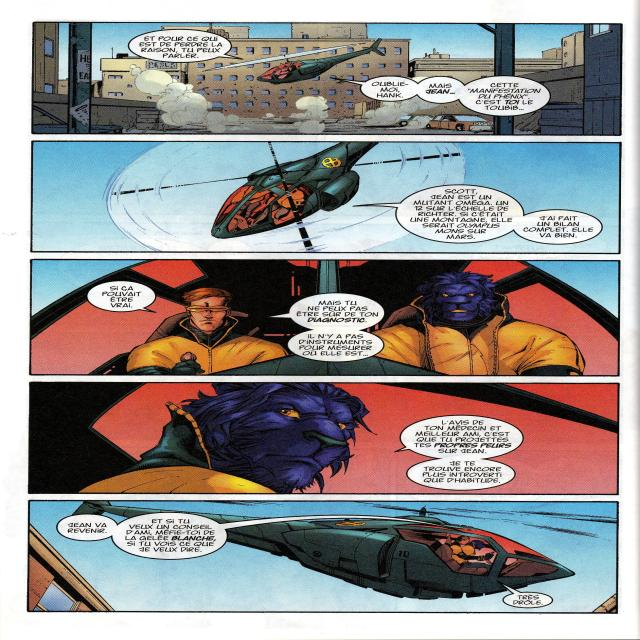comic_panel: (28, 259, 622, 377), (30, 19, 623, 136), (26, 498, 619, 614), (27, 381, 620, 494), (30, 141, 622, 254)
